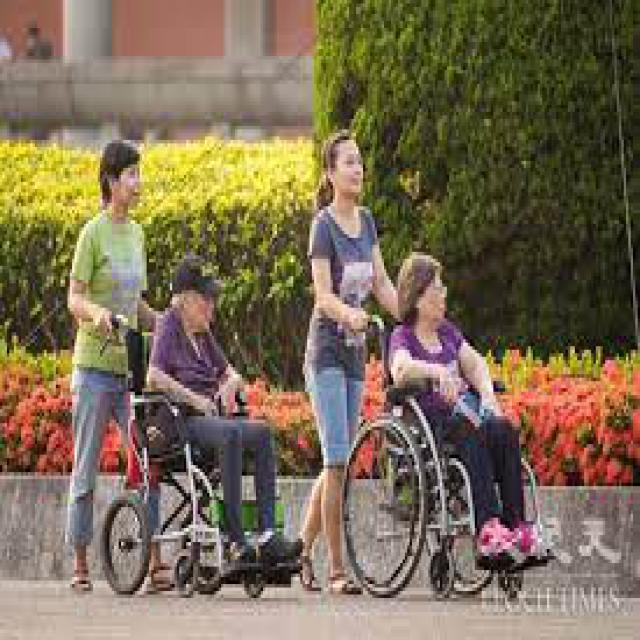wheelchairs: (93, 308, 305, 594), (339, 304, 552, 584)
